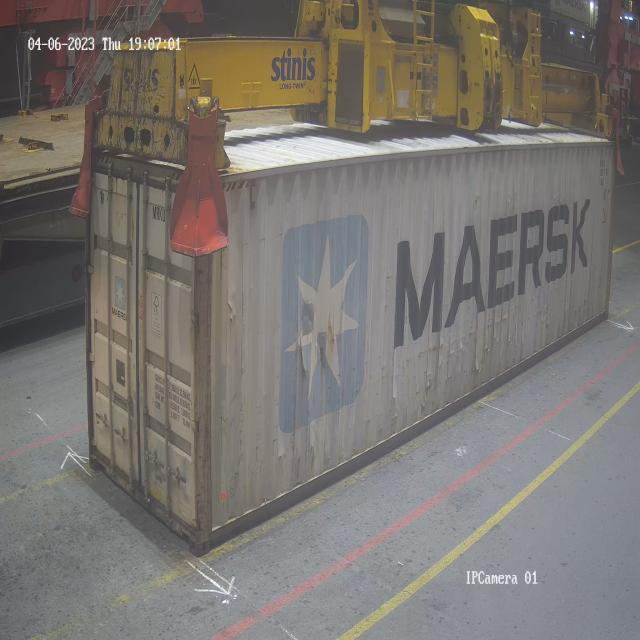dent: (280, 275, 358, 418)
